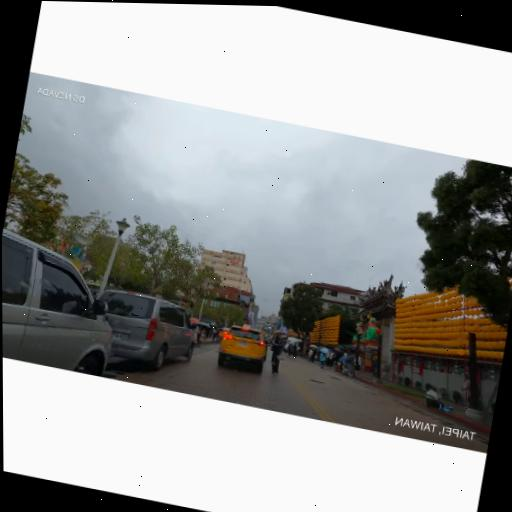Car: (2, 224, 129, 377), (81, 283, 202, 376), (214, 319, 269, 374)
